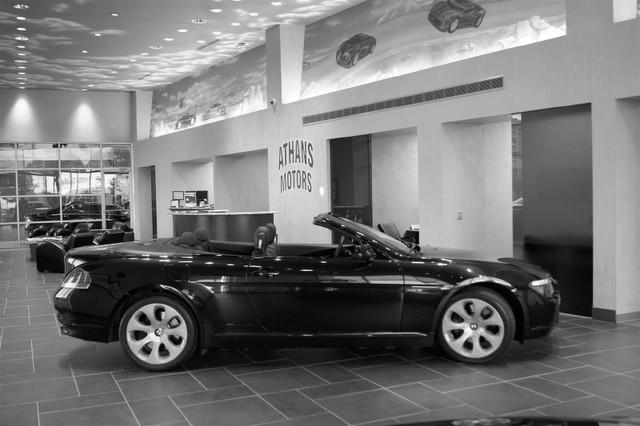car: (52, 212, 561, 376)
